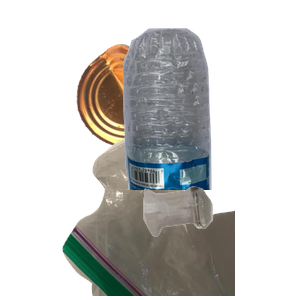glass: (141, 184, 300, 300)
metal: (74, 41, 229, 181)
plastic: (111, 26, 300, 206)
trash: (60, 120, 300, 300)
